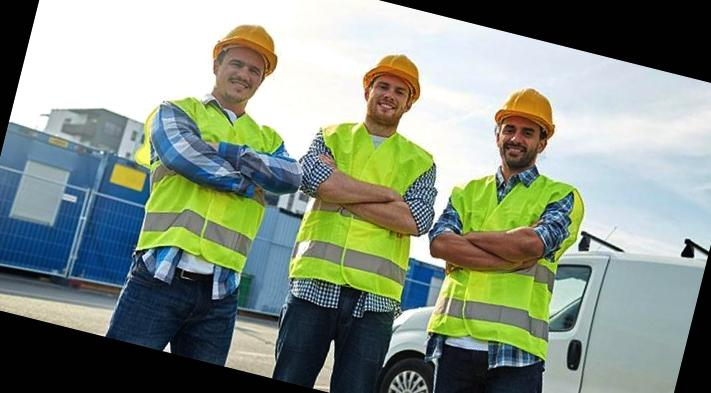helmet: (492, 81, 566, 137), (213, 17, 288, 64), (361, 44, 430, 93)
person: (93, 2, 326, 371), (253, 35, 470, 393), (393, 71, 617, 393)
